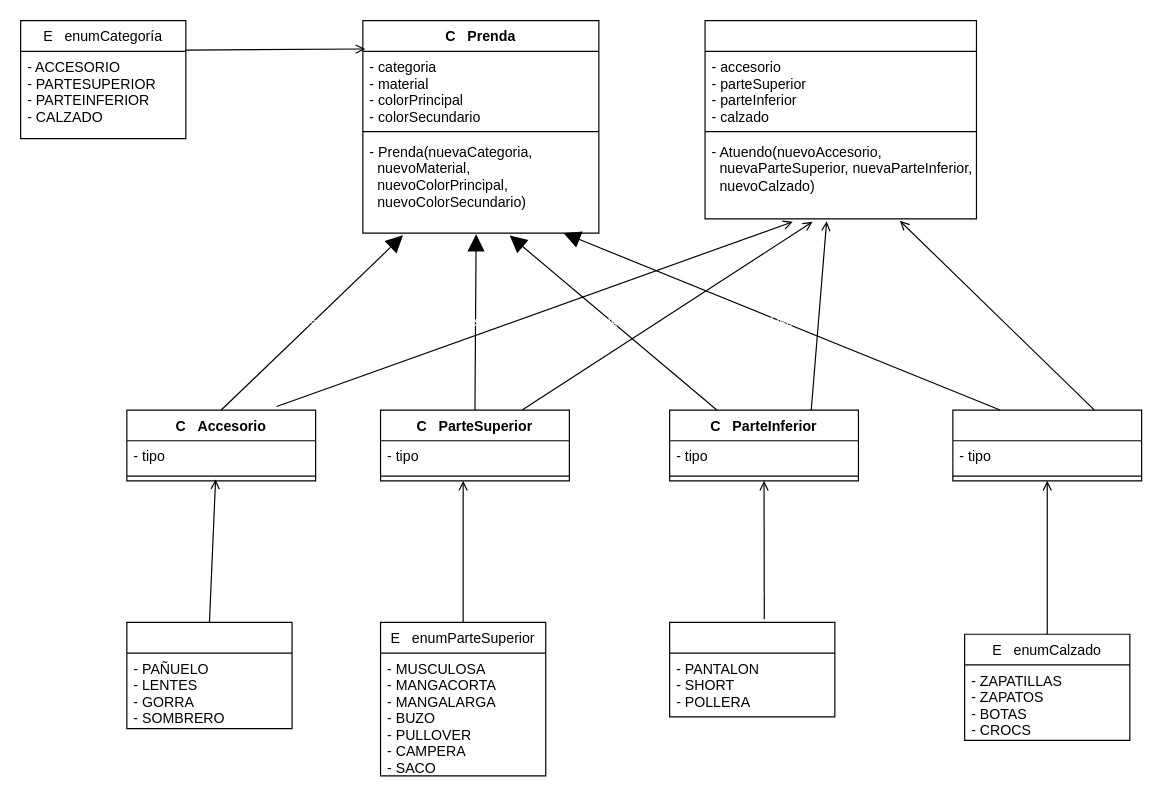
Some shapes in this 1162 by 800 pixel diagram are drawn without their labels. The shapes that lost their labels are listed below. From the top down, each one's box as (x1, y1, x2, y2) in pixels, then its label:
(704, 19, 976, 219): C Atuendo
(952, 409, 1142, 481): C Calzado
(126, 621, 292, 729): E enumAccesorio
(668, 621, 835, 717): E enumParteInferior
